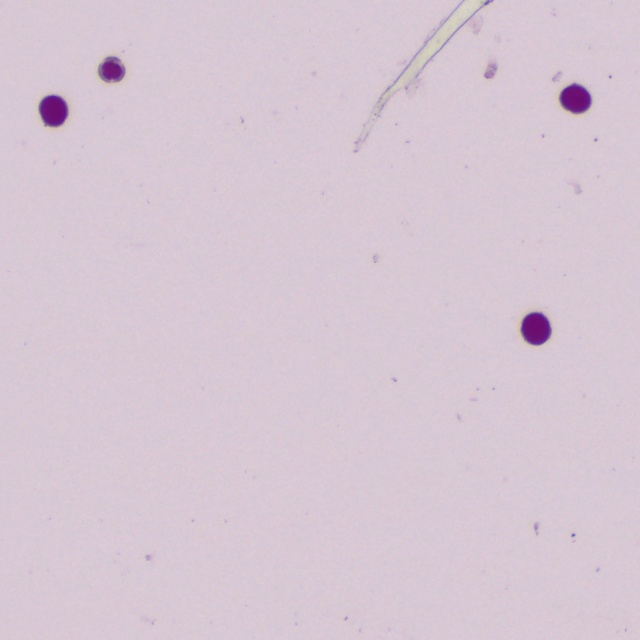viable: (522, 313, 551, 345), (560, 84, 591, 113), (40, 96, 67, 126), (99, 57, 125, 82)
